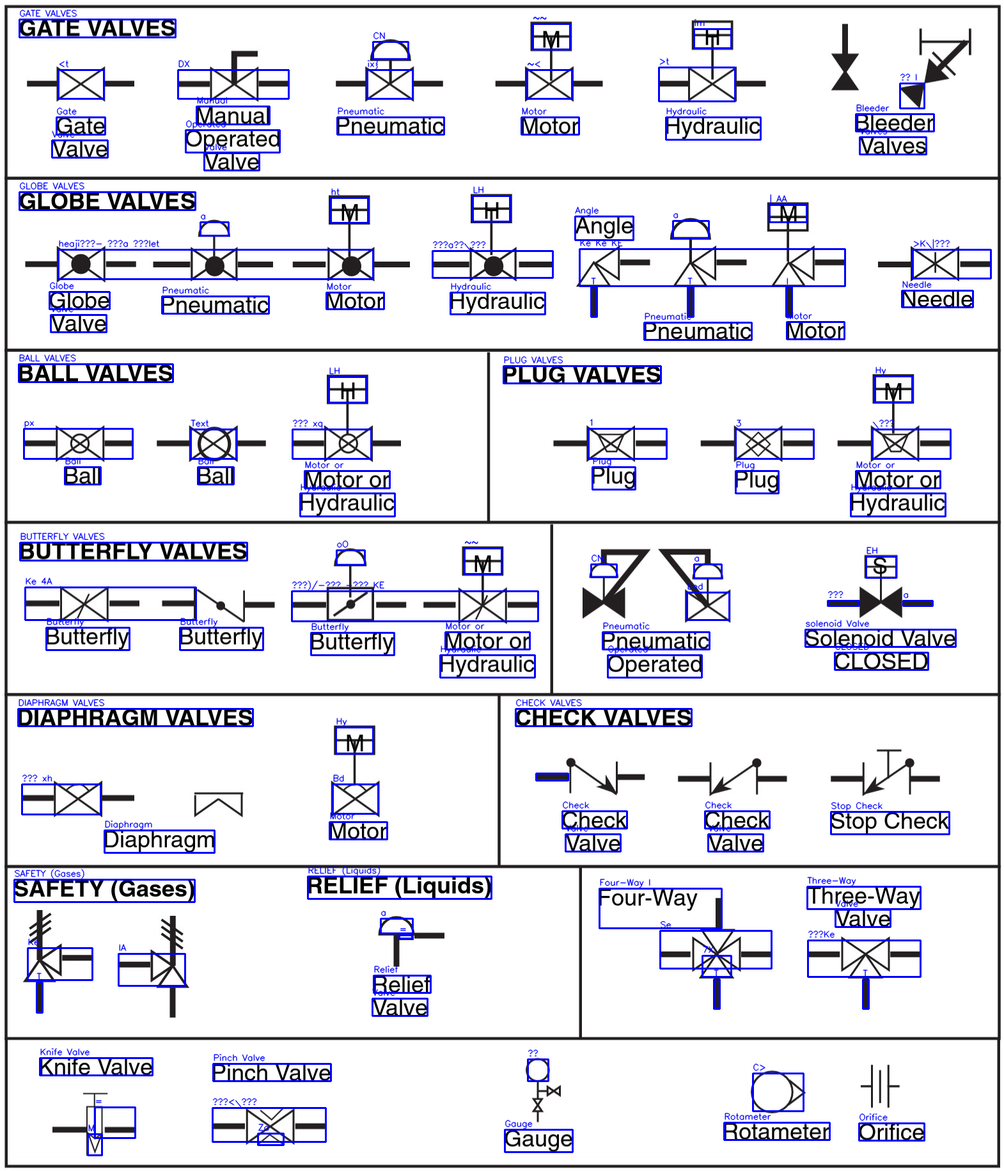Válvula: (654, 894, 778, 1013), (427, 189, 558, 286), (831, 368, 956, 468), (288, 370, 409, 466), (288, 191, 414, 283), (487, 12, 608, 107), (652, 14, 773, 107), (764, 198, 850, 324), (421, 538, 540, 626), (288, 544, 410, 627), (668, 212, 755, 324), (804, 935, 925, 1014), (891, 21, 978, 120), (115, 911, 192, 1020), (148, 219, 279, 283), (822, 549, 936, 622), (330, 37, 451, 105), (26, 906, 95, 1015), (171, 46, 293, 103), (571, 241, 656, 322), (827, 744, 946, 801), (20, 240, 143, 293), (46, 1090, 140, 1159), (655, 545, 735, 624), (578, 544, 655, 623), (696, 422, 821, 469), (16, 776, 138, 822), (19, 582, 145, 626), (327, 721, 383, 820), (208, 1104, 331, 1149), (673, 755, 787, 803), (19, 421, 136, 467), (549, 424, 672, 467), (872, 239, 994, 282), (533, 754, 650, 798), (153, 423, 271, 466), (24, 60, 139, 104), (156, 584, 278, 624), (373, 915, 450, 970), (521, 1057, 567, 1126), (748, 1067, 806, 1115), (828, 19, 861, 97), (856, 1061, 904, 1111), (189, 789, 249, 819)
